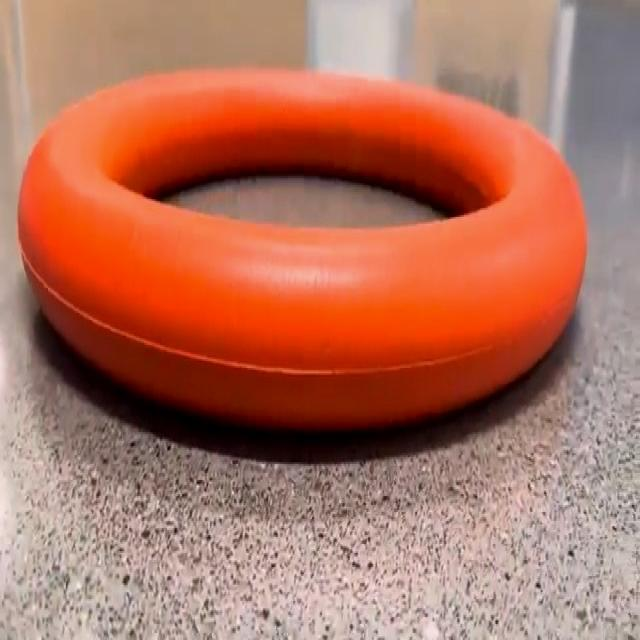note: (19, 69, 586, 428)
